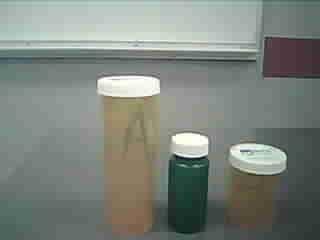Bottle A: (93, 72, 164, 235)
Bottle B: (222, 142, 289, 233)
Bottle C: (166, 129, 216, 236)
